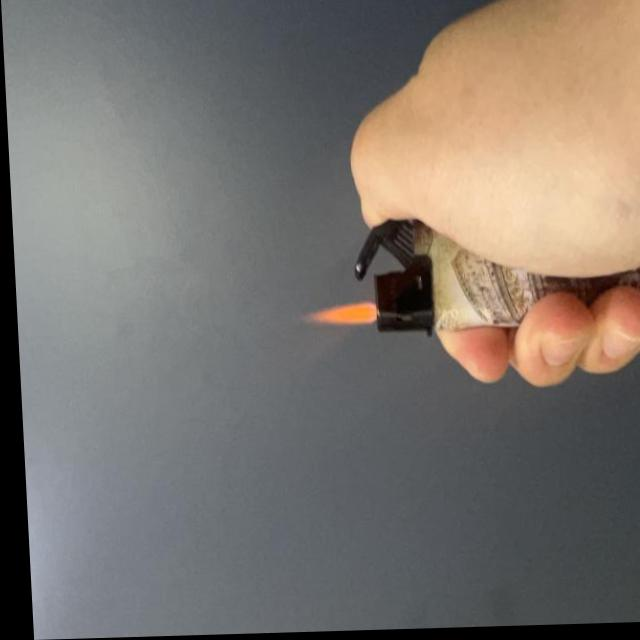Fire: (295, 303, 372, 332)
